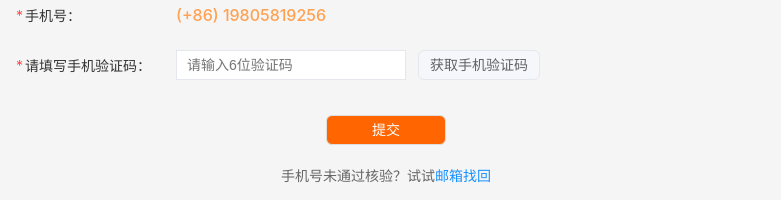
Test: VerificationCodeStep 组件测试 › 发送验证码 › 应该在发送成功后显示120秒倒计时
What coordinates should you click on to do the following:
click the button "获取手机验证码"
I would click on:
 (479, 65)
Its box is [418,50,540,80].
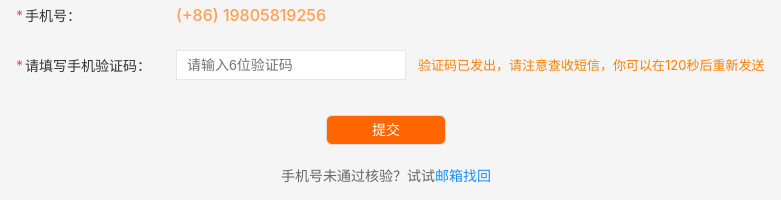
Expected: the text "验证码已发出，请注意查收短信，你可以在120秒后重新发送" is shown, [418,55,764,75]
